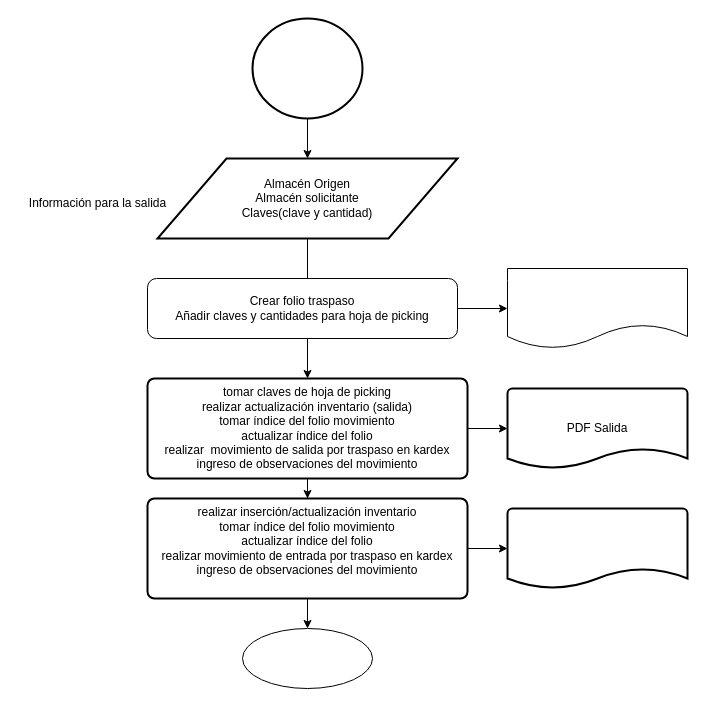
Image size: 705x706. Some labels were removed from this diagram. Each missing label, with the centre of its shape:
PDF Entrada: the point at 597,548
PDF Picking: the point at 597,308
Traspasos: the point at 307,68
